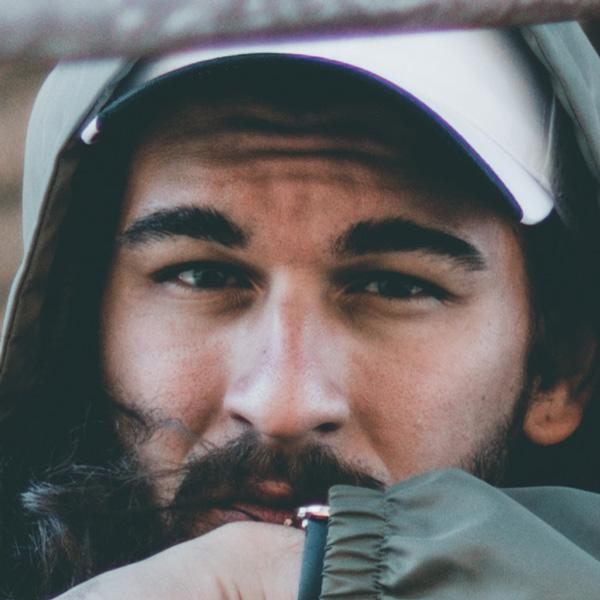Eyes: (141, 243, 266, 308), (334, 260, 461, 317)
